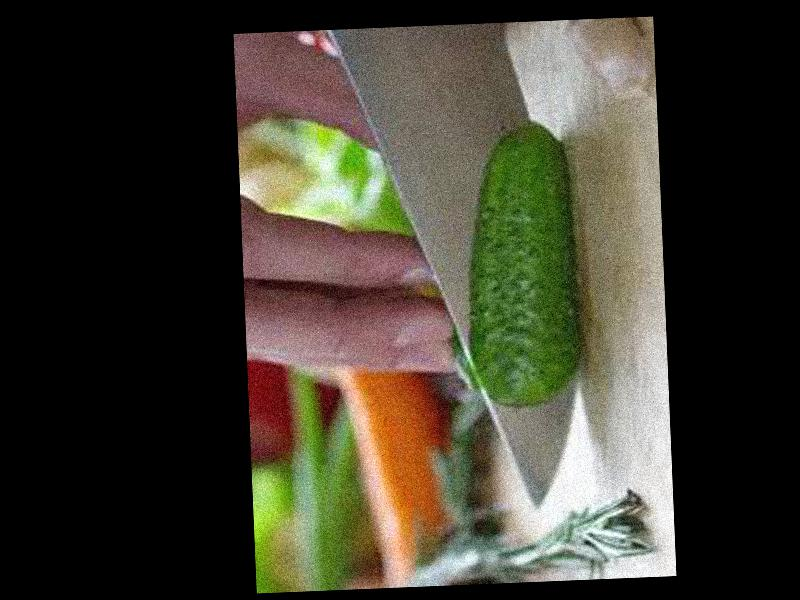Cucumber: (460, 123, 587, 410)
